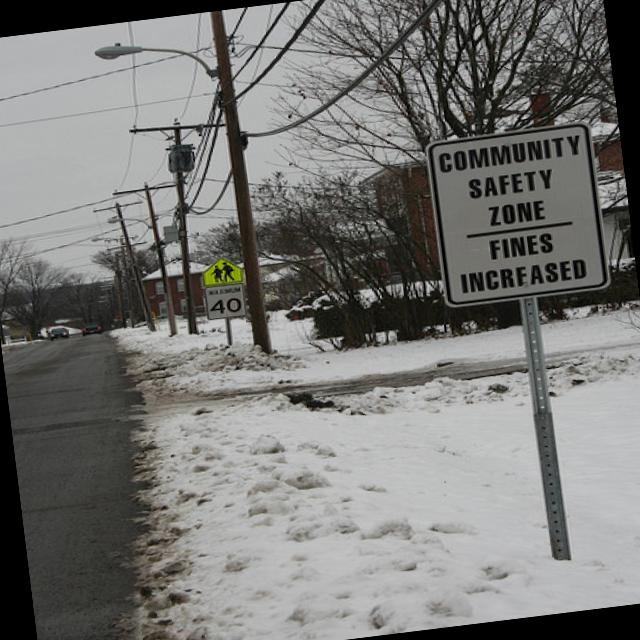Vehicle: (81, 322, 102, 336), (48, 327, 68, 340)
